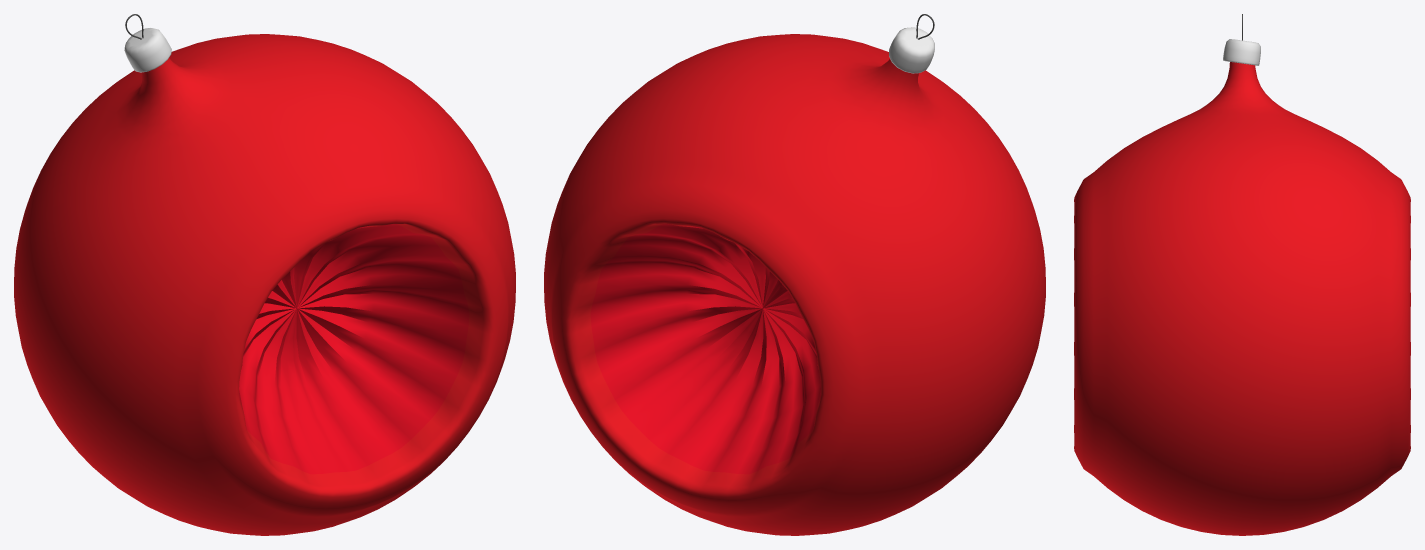
The model's file is cr_toy1.fbx.
3 renders of one model, left to right at view 1: azimuth 30°, elevation 25°; view 2: azimuth 150°, elevation 25°; view 3: azimuth 270°, elevation 25°, orthographic. The views are drawn at different scales.
Parts seen in each view (by area): view 1: BezierCircle; view 2: BezierCircle; view 3: BezierCircle.
Part boxes in pixels (x1,y1,x2,y2): BezierCircle: (14, 14, 515, 535); BezierCircle: (544, 14, 1045, 535); BezierCircle: (1074, 14, 1410, 535).
Size of the model in its own units: 19.73 by 23.01 by 15.7.
